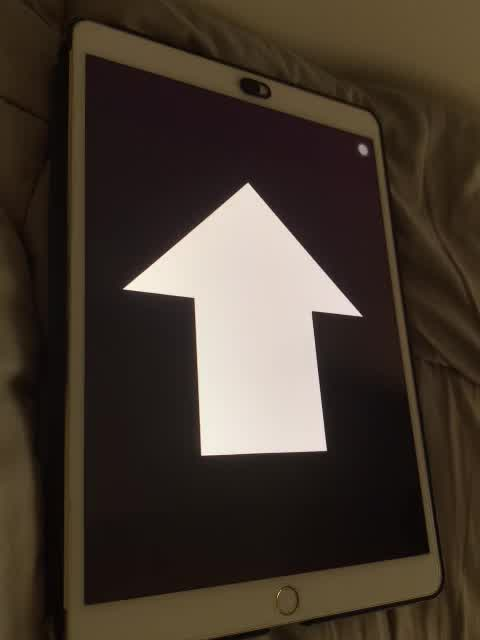up: (119, 180, 366, 460)
